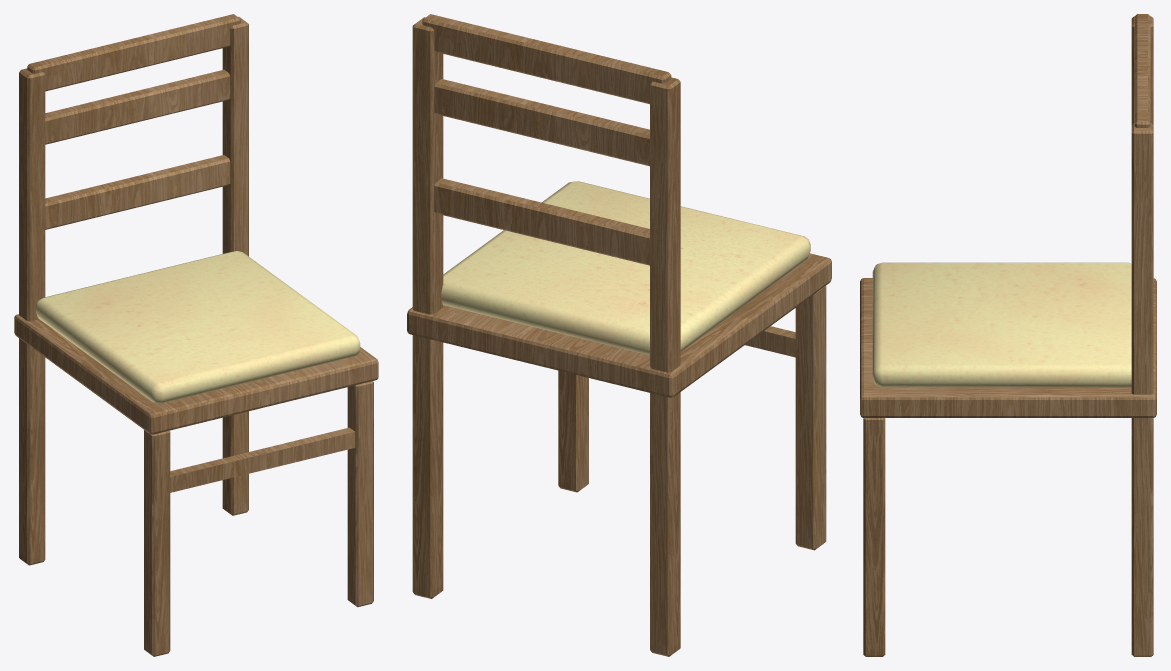
File: dining_chair.fbx
3 renders of one model, left to right at view 1: azimuth 30°, elevation 25°; view 2: azimuth 150°, elevation 25°; view 3: azimuth 270°, elevation 25°, orthographic. The views are drawn at different scales.
Visible parts, largest first — view 1: dining_chair; view 2: dining_chair; view 3: dining_chair.
Boxes of the visible parts, x1,y1,x2,y2 form: dining_chair: (14,14,378,656); dining_chair: (407,14,831,656); dining_chair: (860,14,1156,656).
Size of what is drawn, in the model's own units: 45 by 93 by 47.
2 materials, 2 textured.
